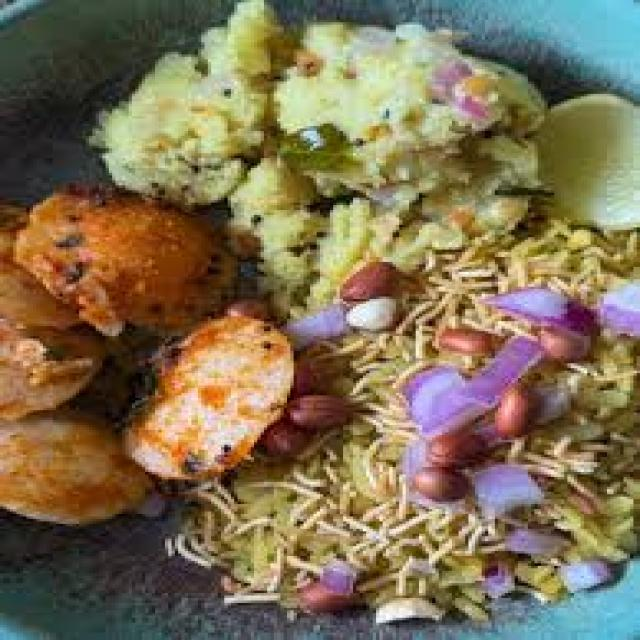BAJI: (0, 0, 637, 583)
